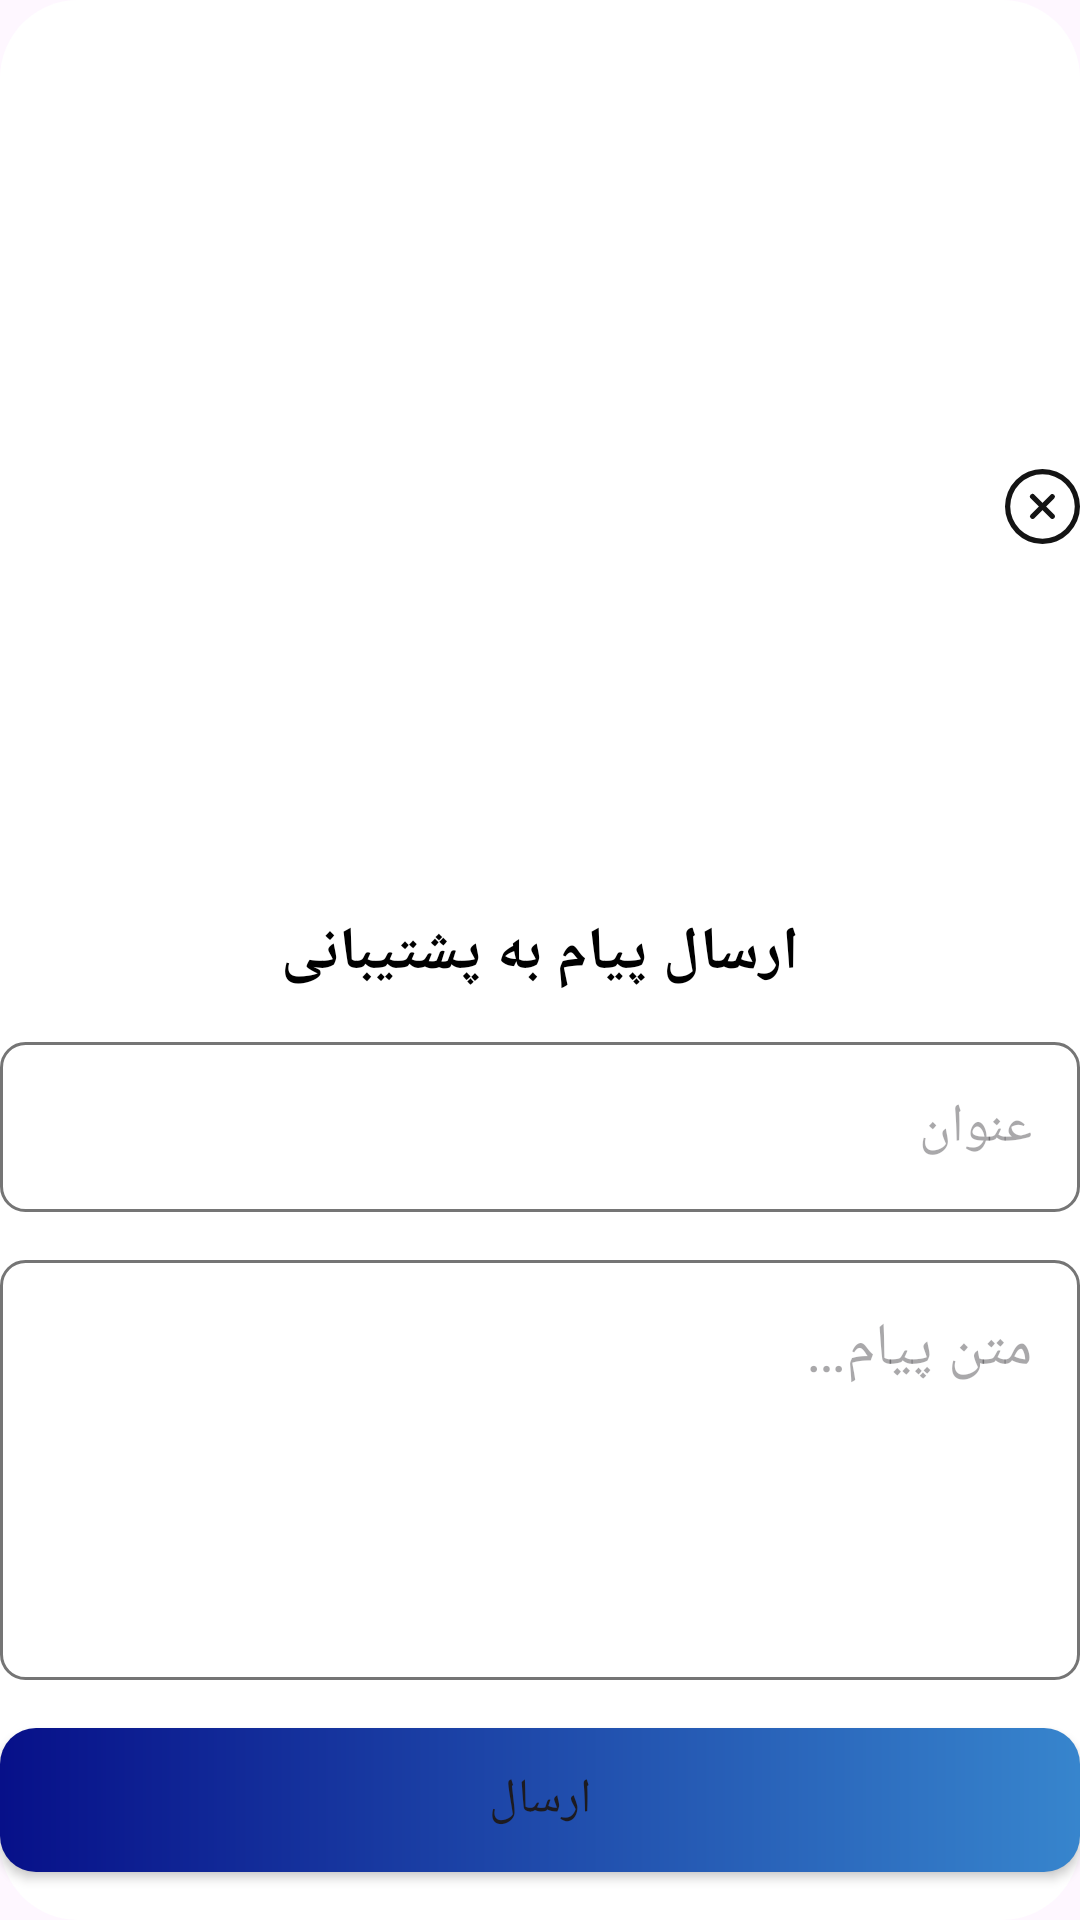

Locate icon controls on the screen. Image size 1080w x 1920h, boxes as (x1, y1, x2, y2).
cancel: (1005, 469, 1080, 544)
